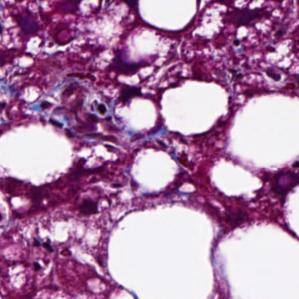inflammation: (107, 37, 154, 83), (219, 4, 277, 32), (25, 230, 56, 278), (10, 7, 47, 45), (110, 76, 149, 107), (73, 189, 108, 217), (90, 98, 111, 118)
